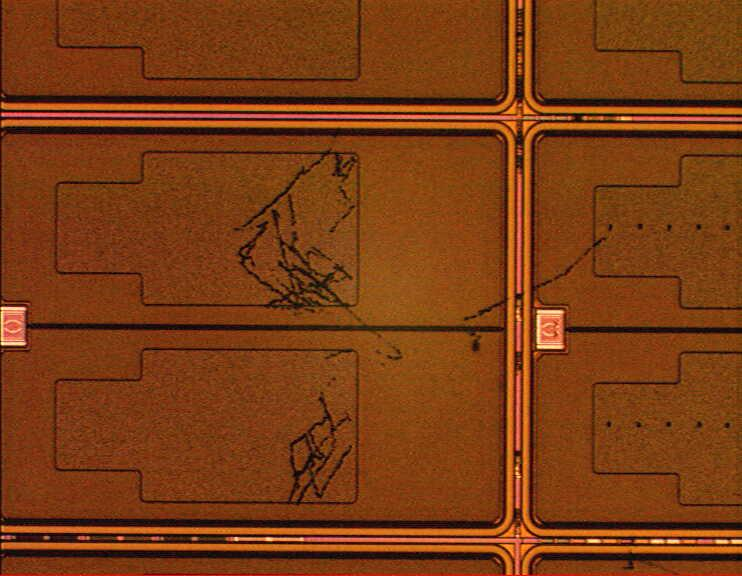SCRATCH: (226, 118, 614, 509)
